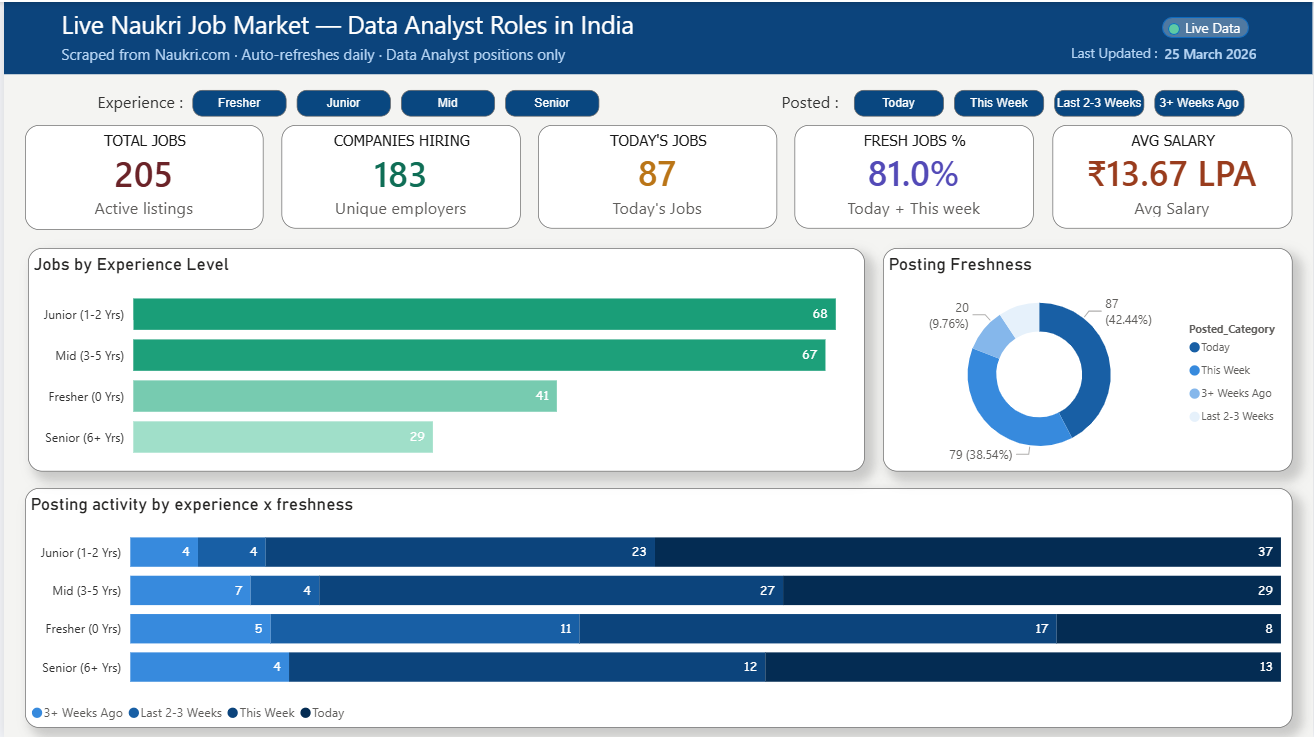

What the dashboard file says about the page in this screenshot:
{"tool":"powerbi","page":{"name":"Job Market Overview","canvas":[1280,720],"ordinal":0},"visuals":[{"type":"textbox","box":[0,0,1280,70.4],"z":0},{"type":"textbox","box":[51.4,0,585.5,45.5],"z":1000},{"type":"textbox","box":[51.4,35.2,510.7,35.2],"z":2000},{"type":"shape","box":[1132.9,14.7,85.1,20.5],"z":3000},{"type":"textbox","box":[1150.5,10.3,67.5,33.8],"z":4000},{"type":"shape","box":[1138.7,20.5,11.7,11.7],"z":5000},{"type":"cardVisual","title":"Last Updated","fields":{"Data":["All Measures.Last Updated"]},"box":[1118.2,35.2,133.5,30.8],"z":6000},{"type":"textbox","box":[1038.9,35.2,99.8,35.2],"z":7000},{"type":"ChicletSlicer1448559807354","fields":{"Category":["naukri_clean.Exp Level Short"]},"box":[179,80.7,425.6,39.6],"z":8000},{"type":"ChicletSlicer1448559807354","fields":{"Category":["naukri_clean.Posted_Category"]},"box":[826.2,80.7,425.6,39.6],"z":9000},{"type":"textbox","box":[86.6,80.7,99.8,35.2],"z":10000},{"type":"textbox","box":[755.7,80.7,70.4,35.2],"z":11000},{"type":"cardVisual","title":"TOTAL JOBS","fields":{"Data":["All Measures.Total Jobs"]},"box":[20,120.3,233.3,102.7],"z":12000},{"type":"cardVisual","title":"COMPANIES HIRING","fields":{"Data":["All Measures.Total Companies"]},"box":[270.8,120.3,234,101.4],"z":13000},{"type":"cardVisual","title":"TODAY''S JOBS","fields":{"Data":["All Measures.Today's Jobs"]},"box":[522.3,120.3,234,101.4],"z":14000},{"type":"cardVisual","title":"FRESH JOBS %","fields":{"Data":["All Measures.Fresh Jobs%"]},"box":[773.7,120.3,234,101.4],"z":15000},{"type":"cardVisual","title":"AVG SALARY","fields":{"Data":["All Measures.Avg Salary"]},"box":[1025.2,120.3,234.8,101.4],"z":16000},{"type":"hundredPercentStackedBarChart","title":"Posting activity by experience x freshness","fields":{"Category":["naukri_clean.Exp_Level"],"Series":["naukri_clean.Posted_Category"],"Y":["All Measures.Total Jobs"]},"box":[20.5,475.4,1240,234.8],"z":17000},{"type":"clusteredBarChart","title":"Jobs by Experience Level","fields":{"Category":["naukri_clean.Exp_Level"],"Y":["All Measures.Total Jobs"]},"box":[23.5,240.7,818.8,218.6],"z":18000},{"type":"donutChart","title":"Posting Freshness","fields":{"Category":["naukri_clean.Posted_Category"],"Y":["All Measures.Total Jobs"]},"box":[859.9,240.7,400.6,218.6],"z":19000}]}

Visuals, with their boxes in screenshot pixels (x1, y1, x2, y2), scaled from the page's 1280x720 canvas onto the 1314x737 screenshot:
textbox: bbox(0, 0, 1313, 72)
textbox: bbox(53, 0, 654, 47)
textbox: bbox(53, 36, 577, 72)
shape: bbox(1163, 15, 1250, 36)
textbox: bbox(1181, 11, 1250, 45)
shape: bbox(1169, 21, 1181, 33)
"Last Updated" cardVisual: bbox(1148, 36, 1285, 68)
textbox: bbox(1066, 36, 1169, 72)
ChicletSlicer1448559807354 - naukri_clean.Exp Level Short: bbox(184, 83, 621, 123)
ChicletSlicer1448559807354 - naukri_clean.Posted_Category: bbox(848, 83, 1285, 123)
textbox: bbox(89, 83, 191, 119)
textbox: bbox(776, 83, 848, 119)
"TOTAL JOBS" cardVisual: bbox(21, 123, 260, 228)
"COMPANIES HIRING" cardVisual: bbox(278, 123, 518, 227)
"TODAY''S JOBS" cardVisual: bbox(536, 123, 776, 227)
"FRESH JOBS %" cardVisual: bbox(794, 123, 1034, 227)
"AVG SALARY" cardVisual: bbox(1052, 123, 1293, 227)
"Posting activity by experience x freshness" hundredPercentStackedBarChart: bbox(21, 487, 1294, 727)
"Jobs by Experience Level" clusteredBarChart: bbox(24, 246, 865, 470)
"Posting Freshness" donutChart: bbox(883, 246, 1294, 470)
